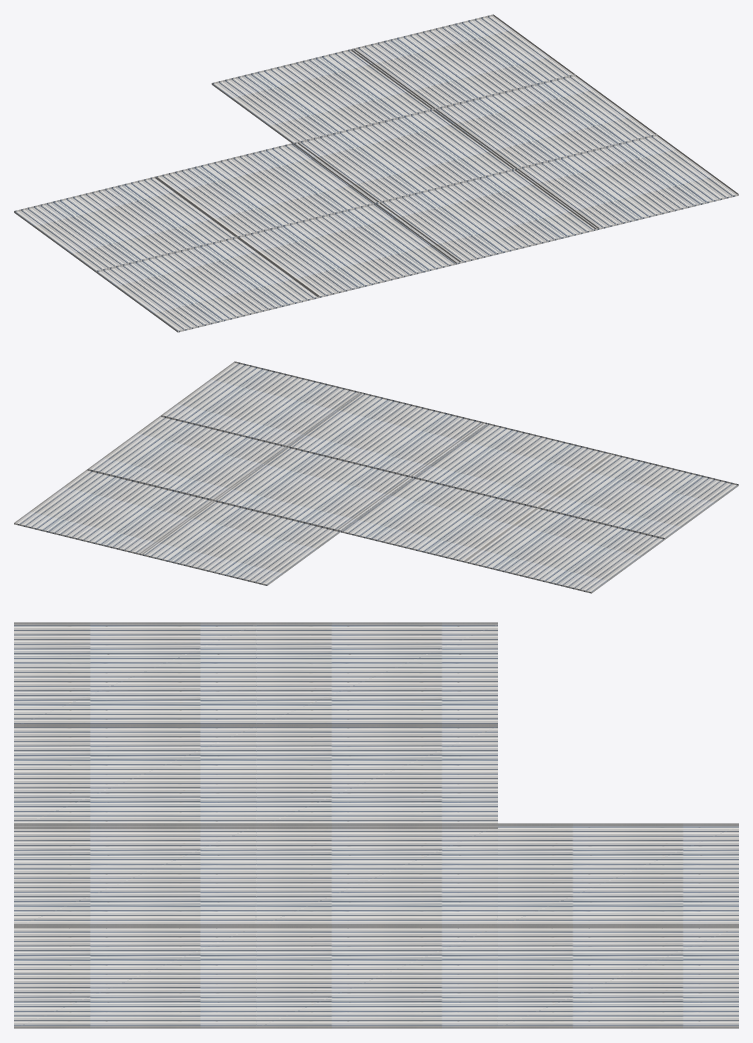
The model's file is atap.obj.
The picture shows the model from 3 angles, top to bottom: view 1: azimuth 30°, elevation 25°; view 2: azimuth 150°, elevation 25°; view 3: azimuth 270°, elevation 25°; orthographic projection. The views are drawn at different scales.
Parts seen in each view (by area): view 1: roof_shade_Roof_0.006, roof_shade_Roof_0.008, roof_shade_Roof_0.005, roof_shade_Roof_0.009, roof_shade_Roof_0.007, roof_shade_Roof_0.001, roof_shade_Roof_0.004, roof_shade_Roof_0, roof_shade_Roof_0.003, roof_shade_Roof_0.002; view 2: roof_shade_Roof_0, roof_shade_Roof_0.007, roof_shade_Roof_0.008, roof_shade_Roof_0.006, roof_shade_Roof_0.004, roof_shade_Roof_0.003, roof_shade_Roof_0.001, roof_shade_Roof_0.009, roof_shade_Roof_0.002, roof_shade_Roof_0.005; view 3: roof_shade_Roof_0.007, roof_shade_Roof_0.006, roof_shade_Roof_0.008, roof_shade_Roof_0, roof_shade_Roof_0.001, roof_shade_Roof_0.009, roof_shade_Roof_0.003, roof_shade_Roof_0.002, roof_shade_Roof_0.004, roof_shade_Roof_0.005.
Part boxes in pixels (x1=…): roof_shade_Roof_0.006: x1=14, y1=176, x2=237, y2=272; roof_shade_Roof_0.008: x1=211, y1=48, x2=435, y2=144; roof_shade_Roof_0.005: x1=155, y1=142, x2=378, y2=237; roof_shade_Roof_0.009: x1=351, y1=14, x2=575, y2=109; roof_shade_Roof_0.007: x1=96, y1=236, x2=319, y2=332; roof_shade_Roof_0.001: x1=433, y1=74, x2=657, y2=169; roof_shade_Roof_0.004: x1=237, y1=202, x2=460, y2=297; roof_shade_Roof_0: x1=515, y1=134, x2=738, y2=230; roof_shade_Roof_0.003: x1=375, y1=168, x2=598, y2=264; roof_shade_Roof_0.002: x1=293, y1=108, x2=516, y2=203; roof_shade_Roof_0: x1=161, y1=361, x2=362, y2=447; roof_shade_Roof_0.007: x1=537, y1=453, x2=738, y2=539; roof_shade_Roof_0.008: x1=139, y1=499, x2=340, y2=585; roof_shade_Roof_0.006: x1=464, y1=507, x2=665, y2=593; roof_shade_Roof_0.004: x1=410, y1=422, x2=611, y2=508; roof_shade_Roof_0.003: x1=286, y1=392, x2=487, y2=477; roof_shade_Roof_0.001: x1=87, y1=415, x2=288, y2=500; roof_shade_Roof_0.009: x1=14, y1=469, x2=215, y2=555; roof_shade_Roof_0.002: x1=212, y1=445, x2=413, y2=531; roof_shade_Roof_0.005: x1=337, y1=476, x2=538, y2=562; roof_shade_Roof_0.007: x1=14, y1=622, x2=256, y2=726; roof_shade_Roof_0.006: x1=255, y1=622, x2=497, y2=726; roof_shade_Roof_0.008: x1=496, y1=823, x2=738, y2=928; roof_shade_Roof_0: x1=14, y1=924, x2=256, y2=1028; roof_shade_Roof_0.001: x1=255, y1=924, x2=497, y2=1028; roof_shade_Roof_0.009: x1=496, y1=924, x2=738, y2=1028; roof_shade_Roof_0.003: x1=14, y1=823, x2=256, y2=928; roof_shade_Roof_0.002: x1=255, y1=823, x2=497, y2=928; roof_shade_Roof_0.004: x1=14, y1=724, x2=256, y2=828; roof_shade_Roof_0.005: x1=255, y1=724, x2=497, y2=828.
Size of the model in its own units: 68.71 by 0.1935 by 52.09.
10 materials, 10 textured.
